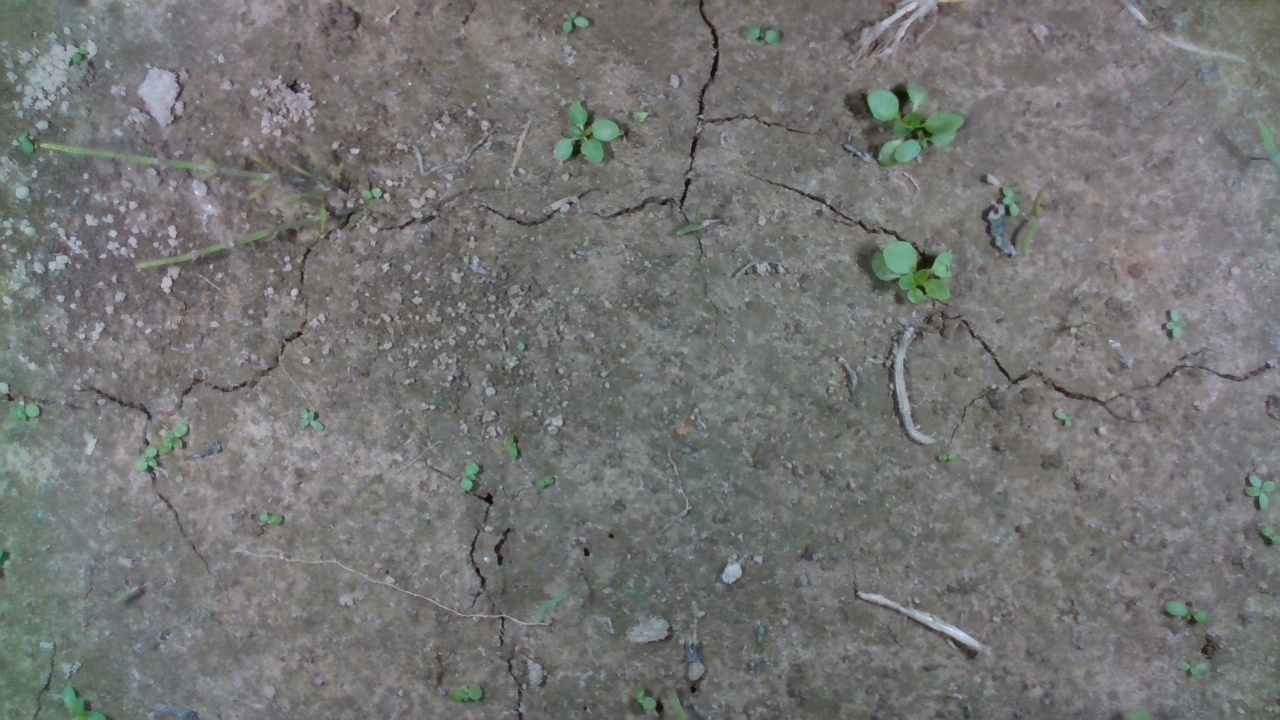weed: (1164, 594, 1213, 632), (1244, 470, 1276, 513), (451, 460, 487, 498), (1163, 303, 1194, 346), (1171, 655, 1212, 681), (558, 5, 592, 34), (296, 403, 325, 434), (1000, 181, 1023, 218)
